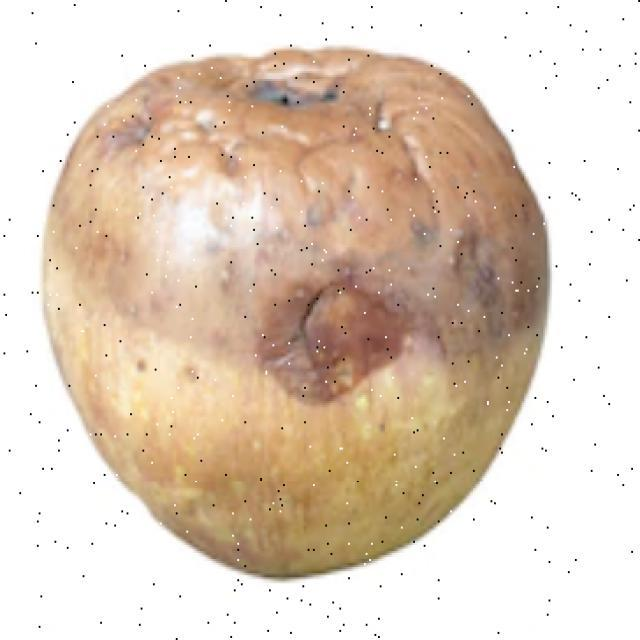Rotten: (53, 57, 560, 565)
